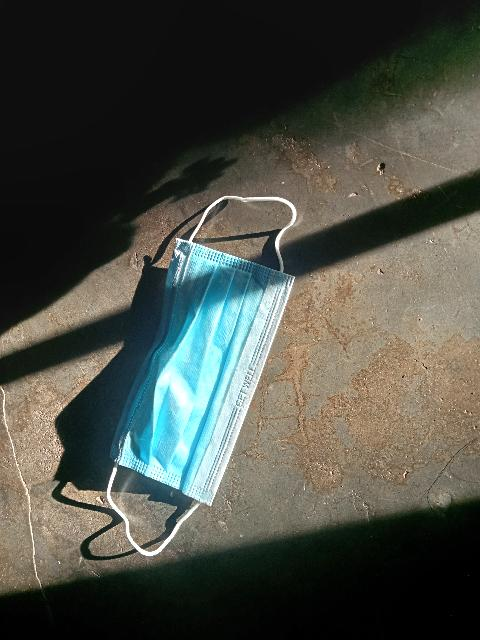mask: (94, 168, 295, 565)
